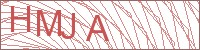A: (84, 12, 111, 43)
H: (8, 4, 33, 34)
J: (59, 13, 77, 40)
M: (34, 10, 63, 37)
